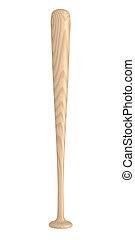bat: (47, 7, 74, 230)
